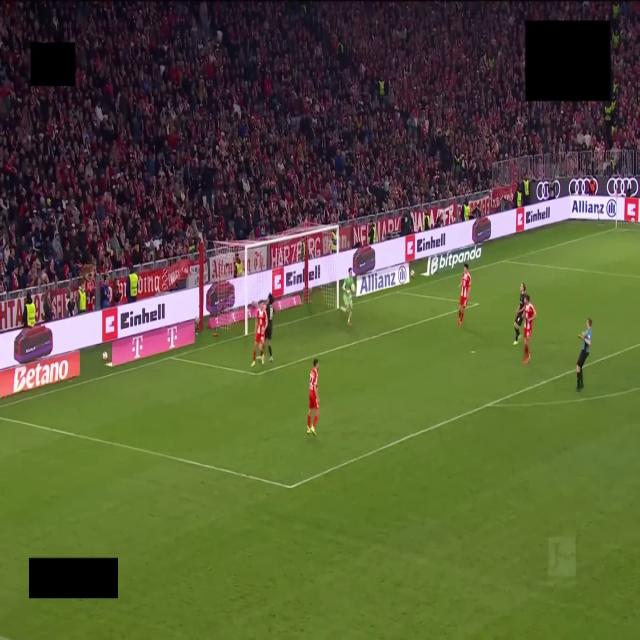ball: (351, 284, 355, 292)
player: (252, 301, 266, 367), (523, 294, 536, 364), (307, 359, 318, 435), (459, 264, 471, 326), (341, 268, 354, 325), (514, 282, 525, 345), (265, 294, 273, 361)
referee: (577, 319, 591, 391)
